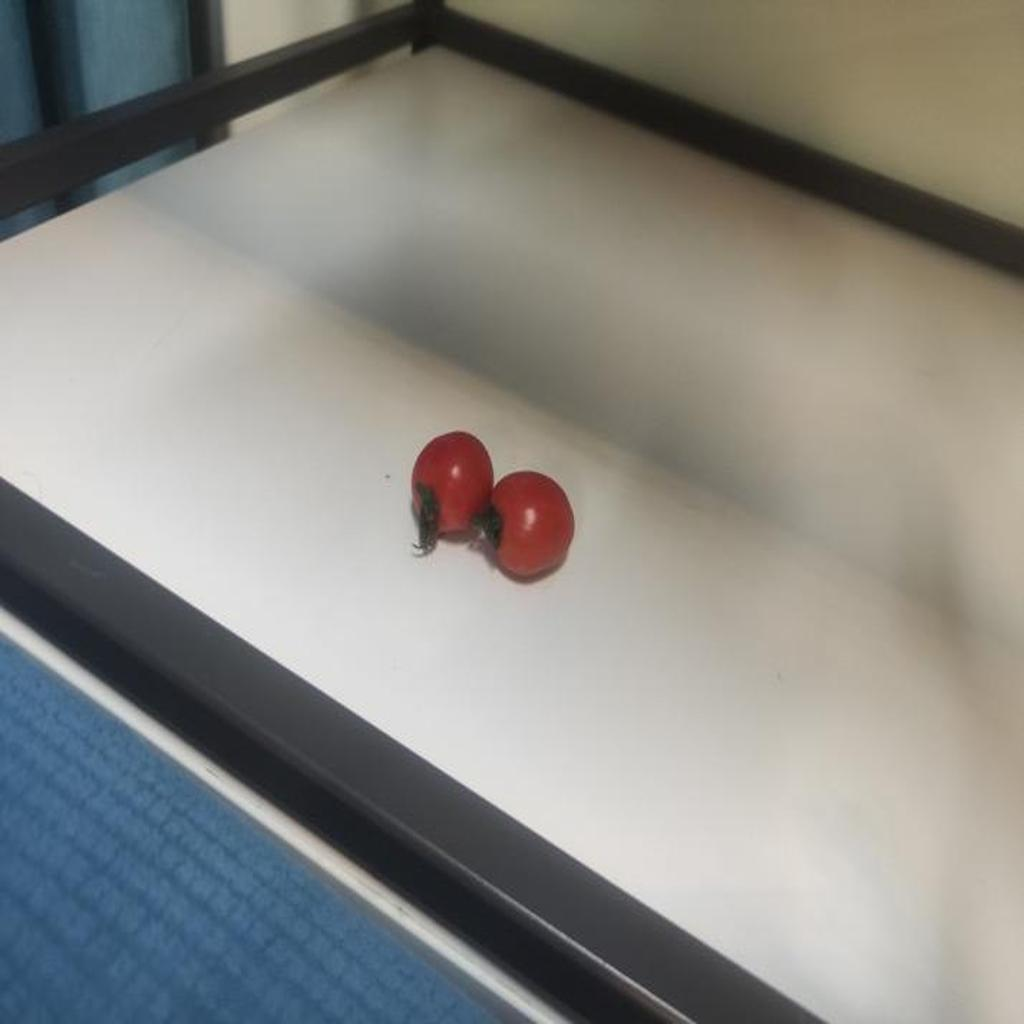tomato: (402, 426, 493, 542), (484, 466, 574, 580)
